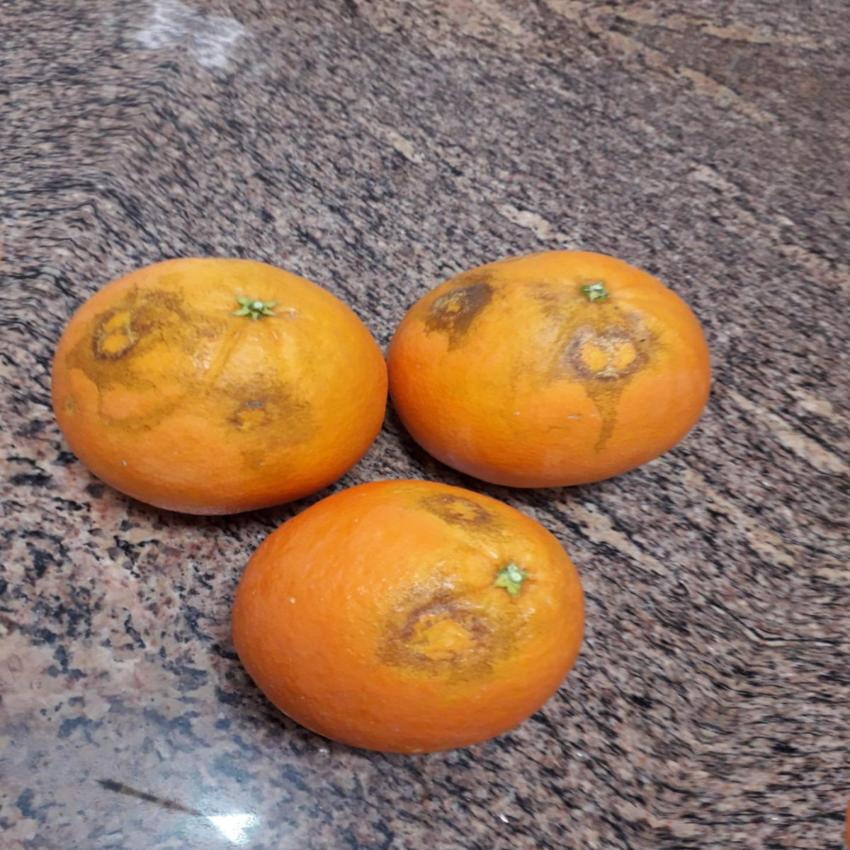Mal estado: (201, 472, 608, 764), (381, 235, 726, 530), (31, 245, 388, 528)
